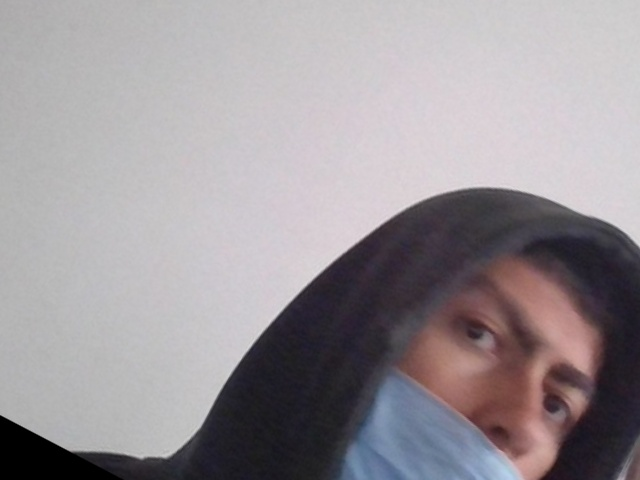mask_weared_incorrect: (348, 220, 609, 480)
